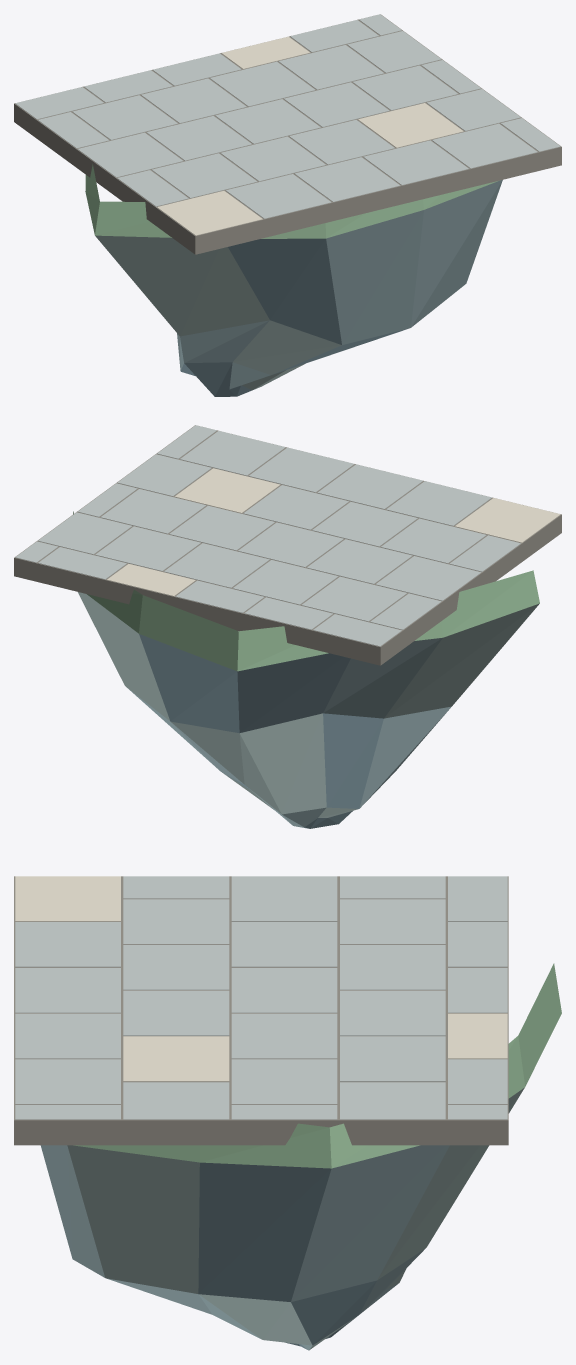
File: FloatingIsland13.glb
The picture shows the model from 3 angles, top to bottom: view 1: azimuth 30°, elevation 25°; view 2: azimuth 150°, elevation 25°; view 3: azimuth 270°, elevation 25°; orthographic projection. The views are drawn at different scales.
Parts seen in each view (by area): view 1: FloatingIsland13; view 2: FloatingIsland13; view 3: FloatingIsland13.
Boxes of the visible parts, x1,y1,x2,y2 form: FloatingIsland13: (14, 14, 561, 396); FloatingIsland13: (14, 425, 561, 828); FloatingIsland13: (14, 876, 561, 1350).
Bounding box in the file's own units: 6.37 × 3.99 × 5.32.
